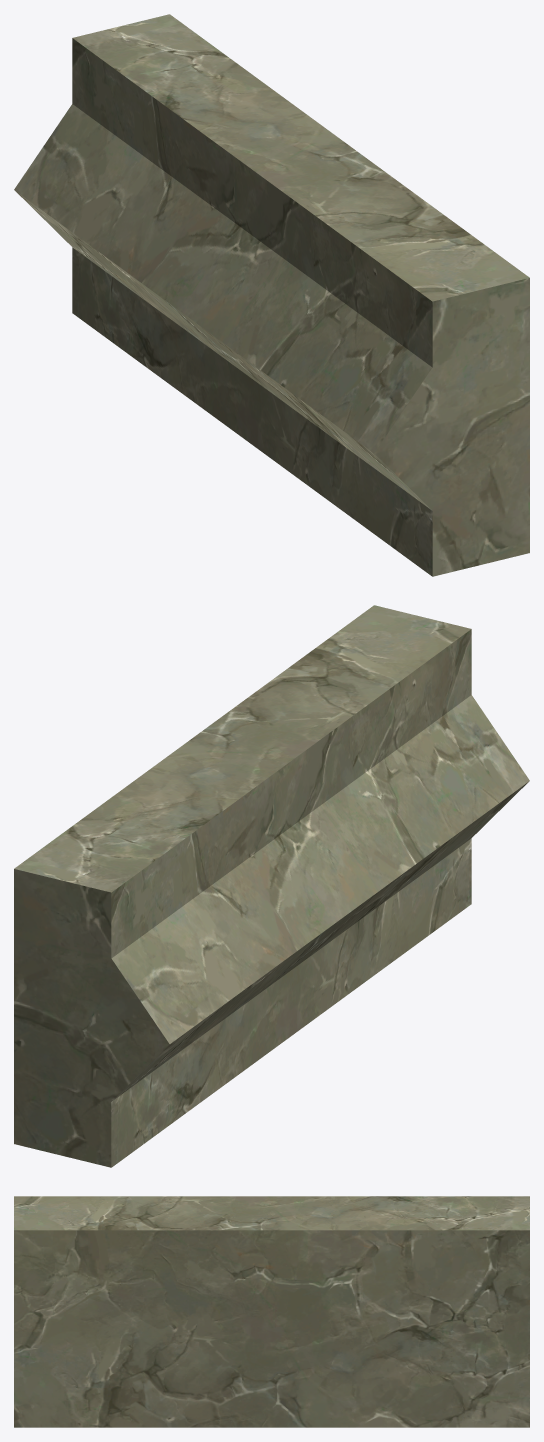
The model's file is Ruins_Collumn_8M_B.fbx.
The picture shows the model from 3 angles, top to bottom: view 1: azimuth 30°, elevation 25°; view 2: azimuth 150°, elevation 25°; view 3: azimuth 270°, elevation 25°; orthographic projection. The views are drawn at different scales.
Parts seen in each view (by area): view 1: Ruins_Collumn_8M_B; view 2: Ruins_Collumn_8M_B; view 3: Ruins_Collumn_8M_B.
Boxes of the visible parts, x1,y1,x2,y2 form: Ruins_Collumn_8M_B: [14, 14, 529, 576]; Ruins_Collumn_8M_B: [14, 605, 529, 1167]; Ruins_Collumn_8M_B: [14, 1196, 529, 1427].
Size of the model in its own units: 200 by 337 by 800.
